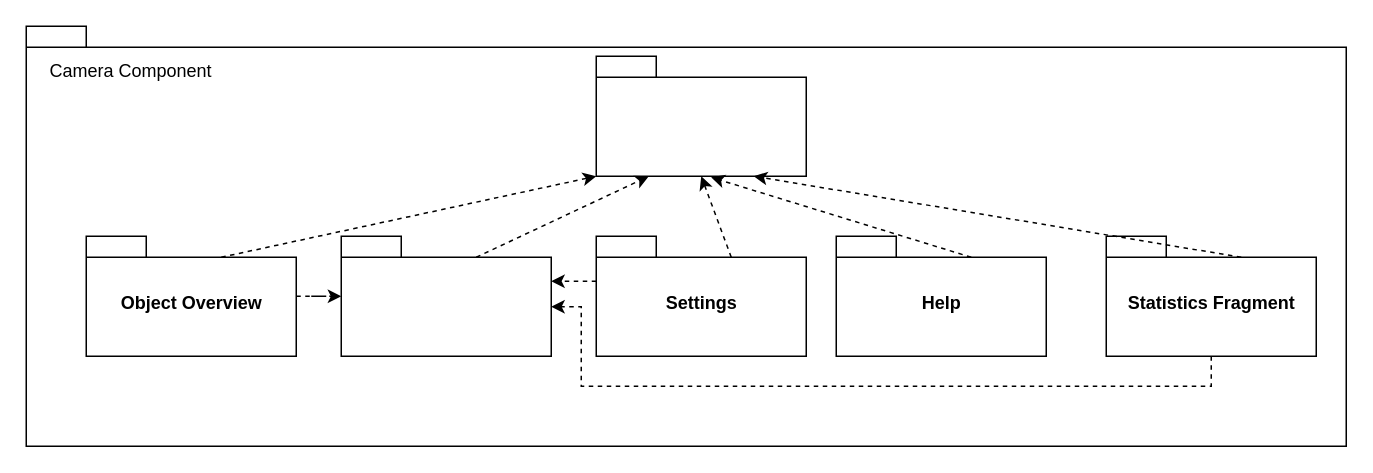
The diagram is 1373 pixels wide and 473 high, and some of its shapes have lost their labels. Here are the shapes that lost their labels. From the top down, the centre of each, then its label:
At (700,115): "Camera Activity".
At (445,295): "Camera".
